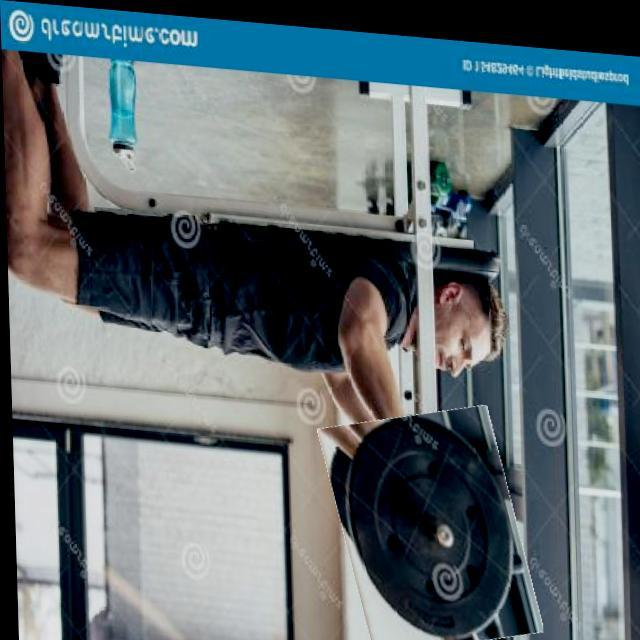barbell: (326, 394, 530, 640)
